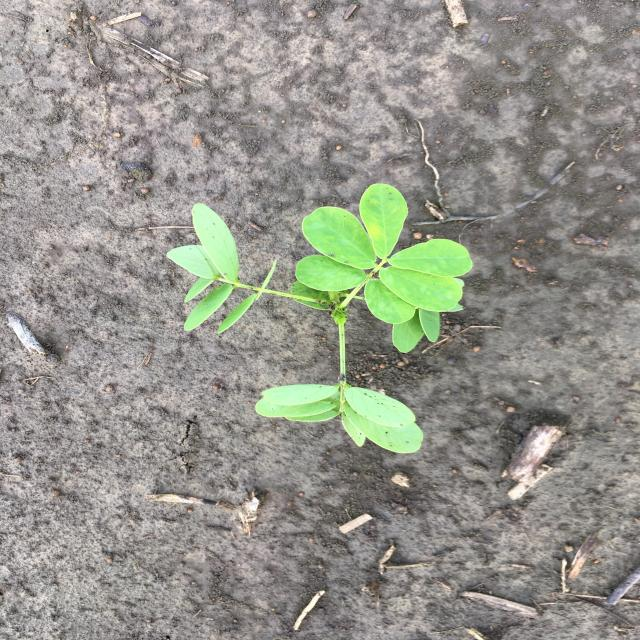Sicklepod: (162, 181, 476, 456)
